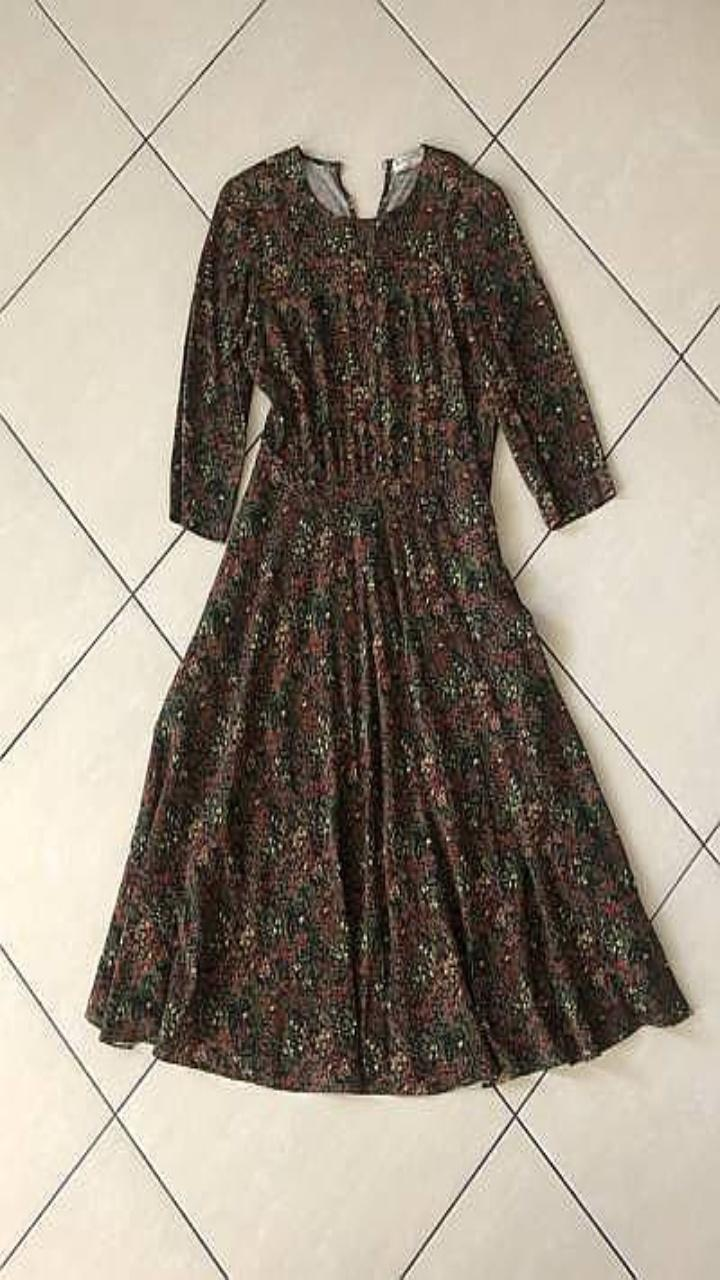Dresses: (86, 143, 690, 1093)
